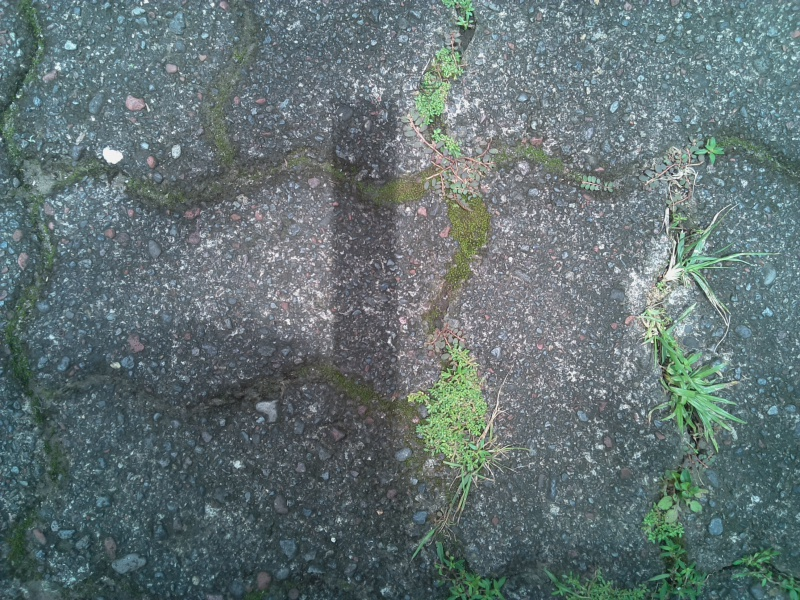Weed: (403, 336, 511, 493), (645, 312, 745, 446), (663, 216, 749, 305), (419, 537, 518, 600), (397, 44, 470, 128), (639, 522, 718, 595), (421, 141, 522, 198), (541, 559, 654, 600), (725, 538, 796, 600), (646, 468, 711, 519), (629, 141, 689, 194), (571, 164, 619, 211), (695, 131, 734, 171)
